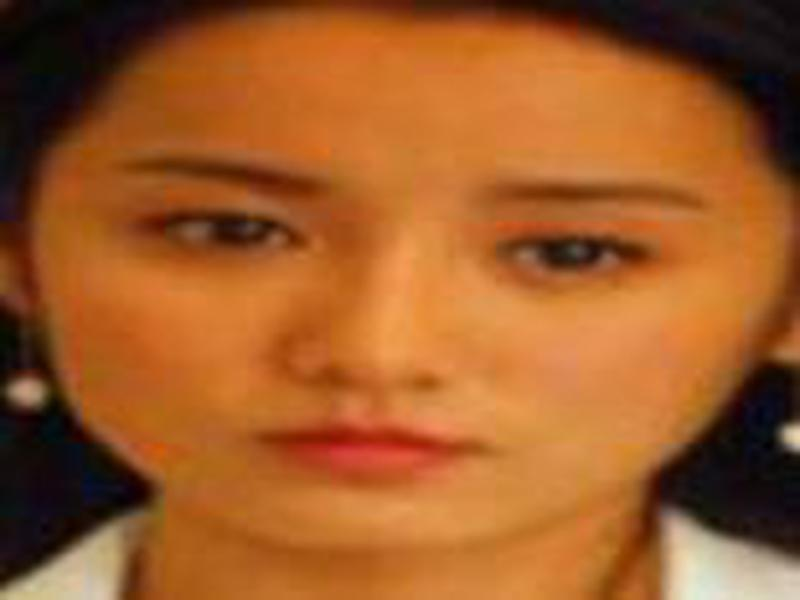without_mask: (29, 12, 782, 559)
